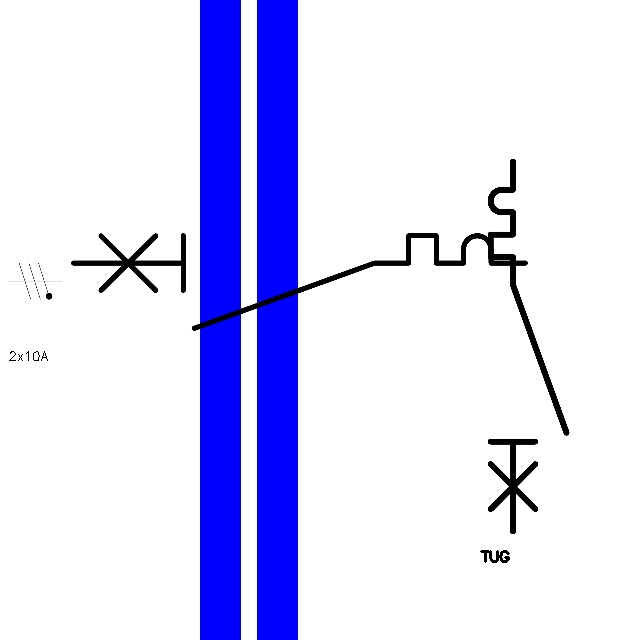interruptor_termomagnetico: (61, 224, 536, 340), (481, 152, 576, 541)
